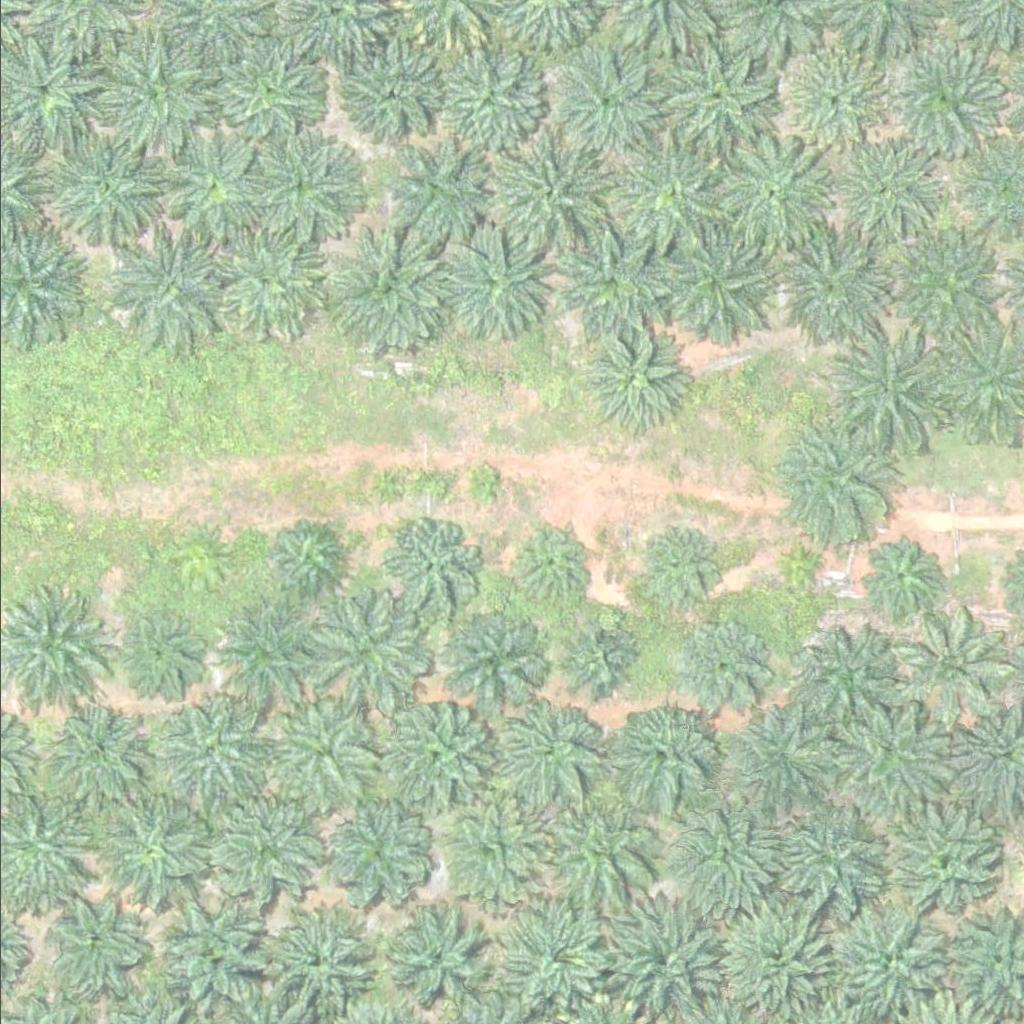Kelapa_Sawit: (875, 230, 1001, 355), (875, 803, 1001, 928), (829, 697, 955, 822), (826, 322, 952, 447), (648, 219, 774, 344), (427, 225, 553, 350), (331, 224, 457, 349), (479, 126, 605, 251), (607, 133, 733, 258), (704, 125, 830, 250), (647, 30, 773, 155), (305, 586, 431, 711), (239, 125, 365, 250), (203, 32, 329, 157), (201, 219, 327, 344), (80, 29, 206, 154), (39, 121, 165, 246), (101, 223, 227, 348), (773, 422, 898, 547), (881, 47, 995, 160), (777, 43, 891, 156), (895, 609, 1008, 722), (542, 795, 655, 908), (436, 789, 549, 902), (375, 701, 488, 814), (491, 691, 604, 804), (607, 701, 720, 814), (725, 706, 838, 819), (572, 322, 685, 435), (374, 132, 487, 245), (548, 46, 661, 159), (434, 44, 547, 157), (325, 799, 438, 912), (255, 907, 368, 1020), (210, 794, 323, 907), (97, 794, 210, 907), (159, 892, 272, 1005), (715, 903, 829, 1015), (826, 907, 940, 1019), (557, 228, 671, 340), (377, 900, 490, 1012), (501, 900, 614, 1012), (603, 907, 716, 1019), (769, 799, 882, 911), (668, 798, 781, 910), (786, 626, 899, 738), (773, 228, 886, 340), (830, 135, 943, 247), (259, 699, 372, 811), (208, 600, 321, 712), (152, 695, 265, 807), (669, 619, 770, 719), (438, 611, 539, 711), (345, 39, 446, 139), (43, 703, 144, 803), (43, 891, 144, 991), (376, 515, 476, 615), (157, 137, 257, 237), (630, 524, 718, 612), (502, 522, 590, 610), (854, 534, 942, 622), (119, 612, 207, 699), (266, 521, 342, 596), (560, 623, 635, 698), (781, 557, 819, 595), (461, 465, 499, 502)
